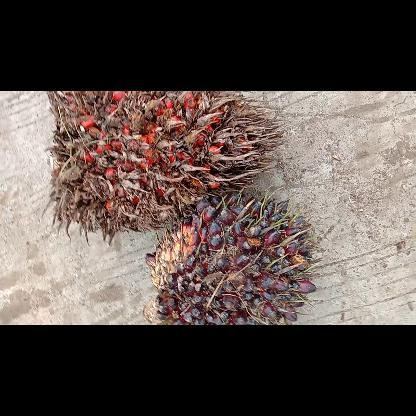TBS mentah: (142, 188, 322, 324)
Terlalu masak: (44, 90, 286, 244)
